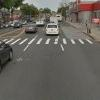Crosswalk: (14, 34, 100, 53)
